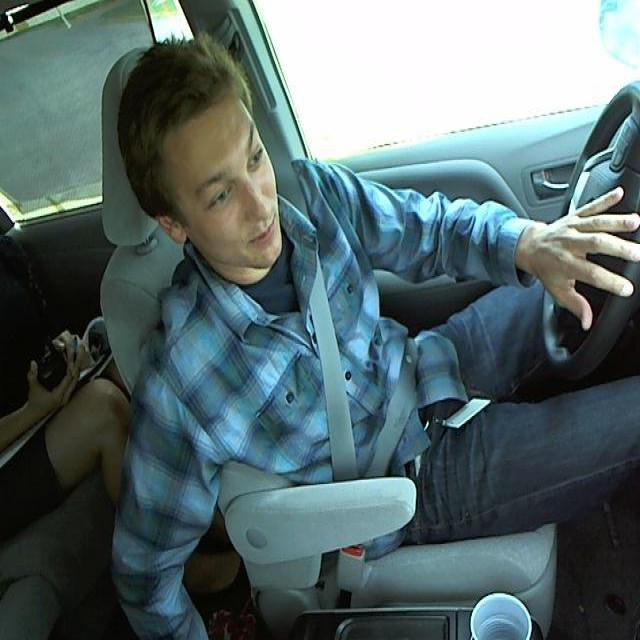seatbelt: (280, 198, 420, 478)
